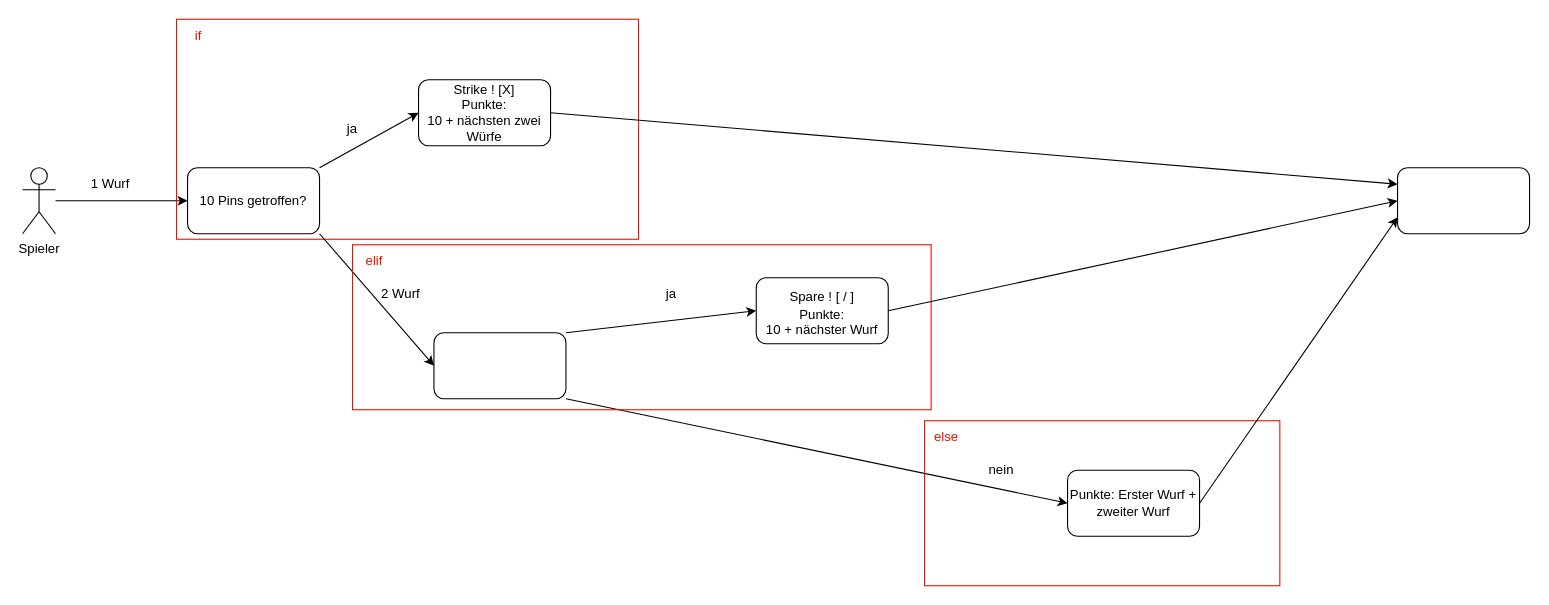
Image size: 1549x605. Some labels were removed from this diagram. The shapes that lost their labels are listed below. From the top down, each one's box as (x1, y1, x2, y2) in pixels, then its label:
(1396, 167, 1530, 234): Nächste Runde
(433, 332, 566, 399): Restliche Pins getroffen?
